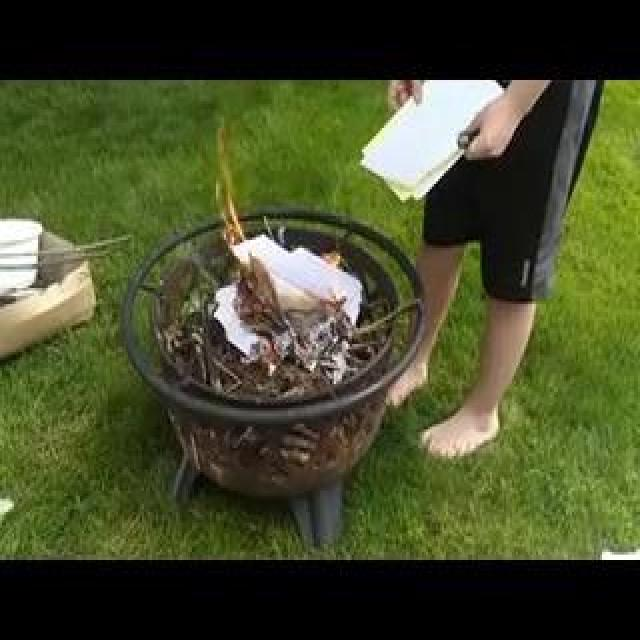Fire: (62, 198, 232, 242)
